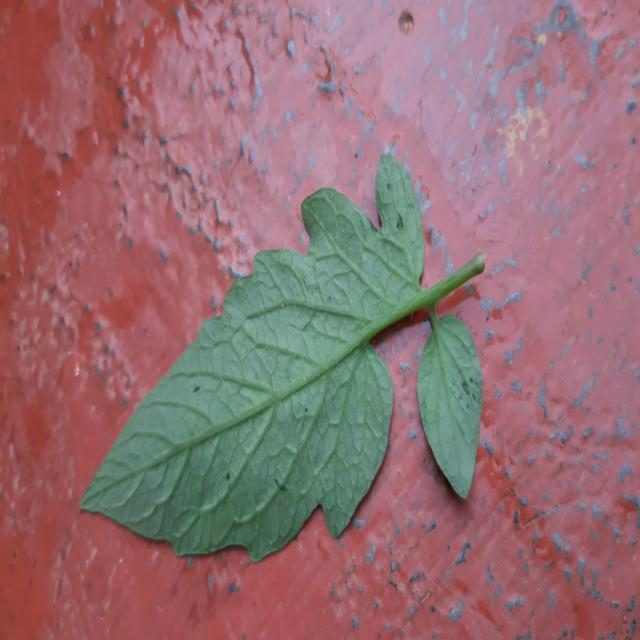tomato: (81, 156, 485, 562)
